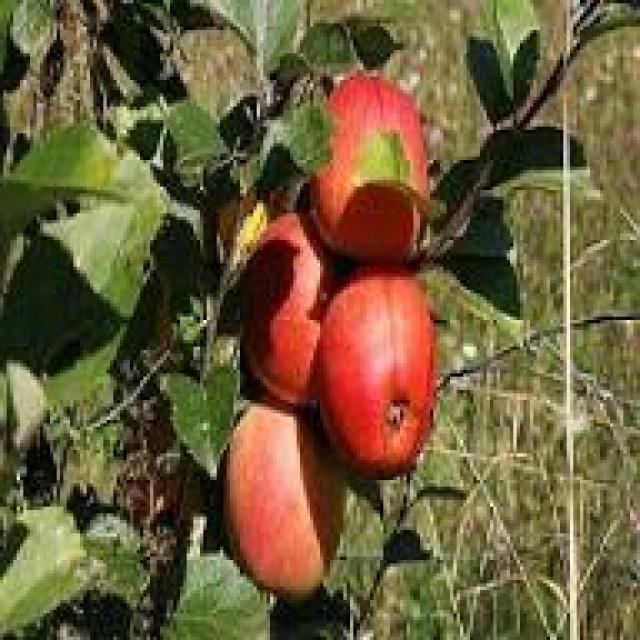apple: (223, 397, 347, 600), (320, 264, 433, 474), (317, 77, 430, 253), (243, 210, 337, 397)
